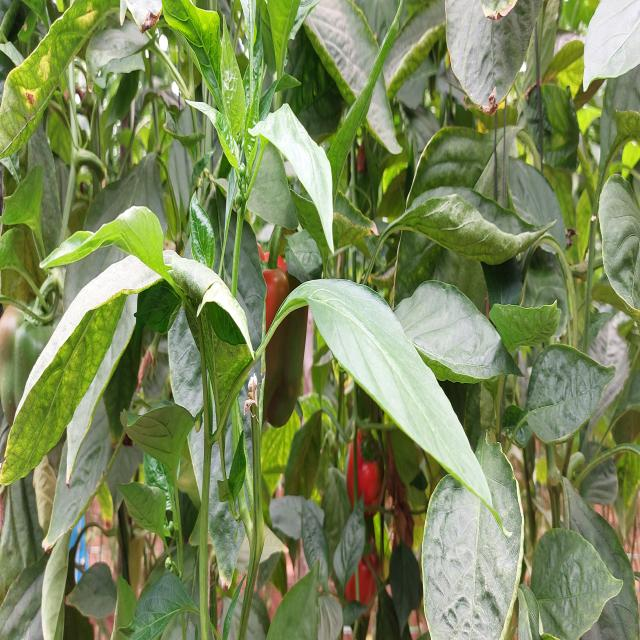BrownishRed--Can-be-Harvested: (244, 236, 313, 434)
